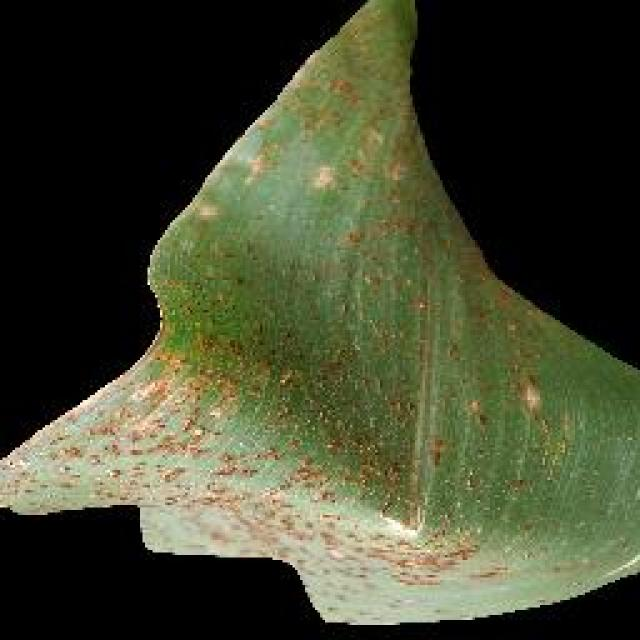Corn___Common_rust: (2, 202, 537, 640)
